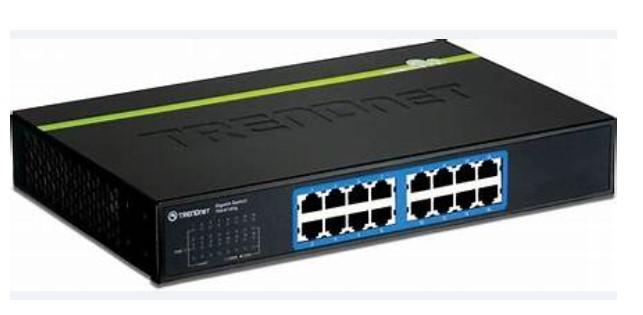NetworkSwitch: (10, 39, 619, 288)
